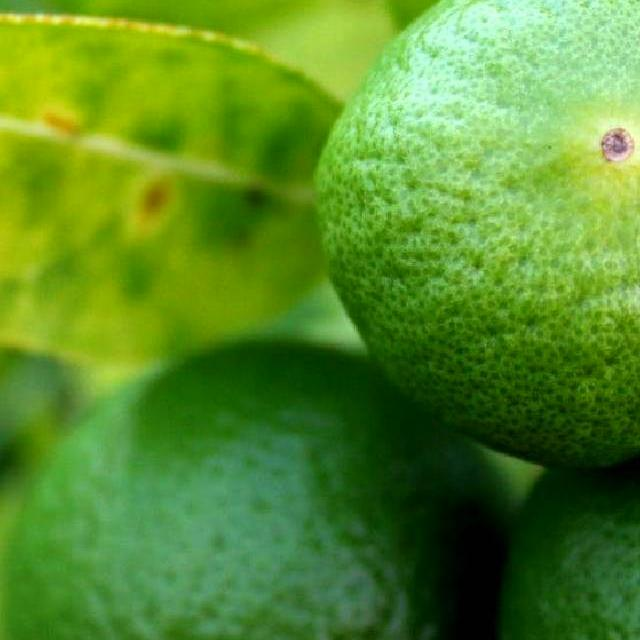lime: (0, 325, 549, 640), (303, 0, 640, 480)
